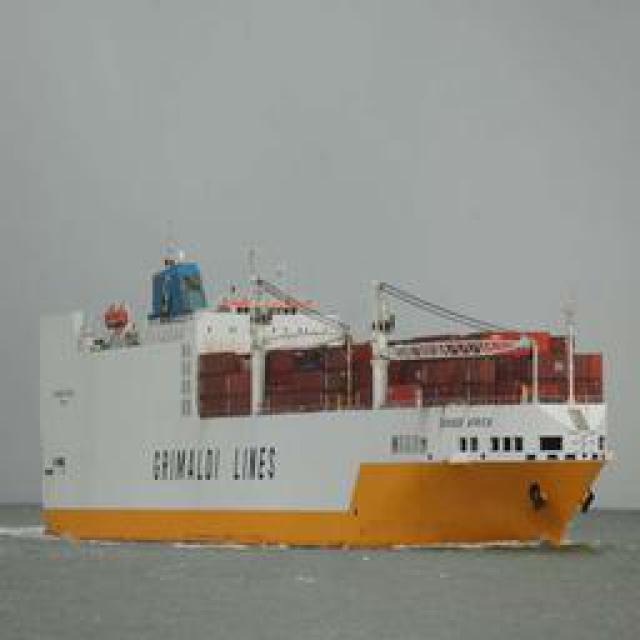Ship: (45, 250, 605, 545)
